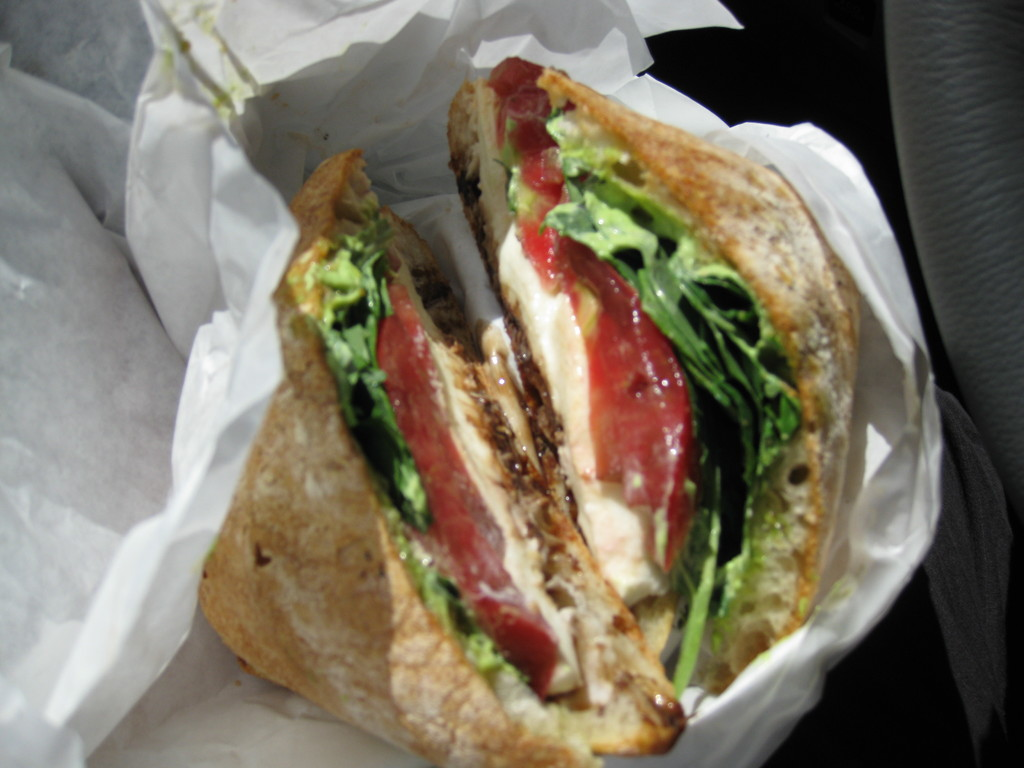sandwich: (195, 148, 688, 767), (447, 59, 861, 691)
